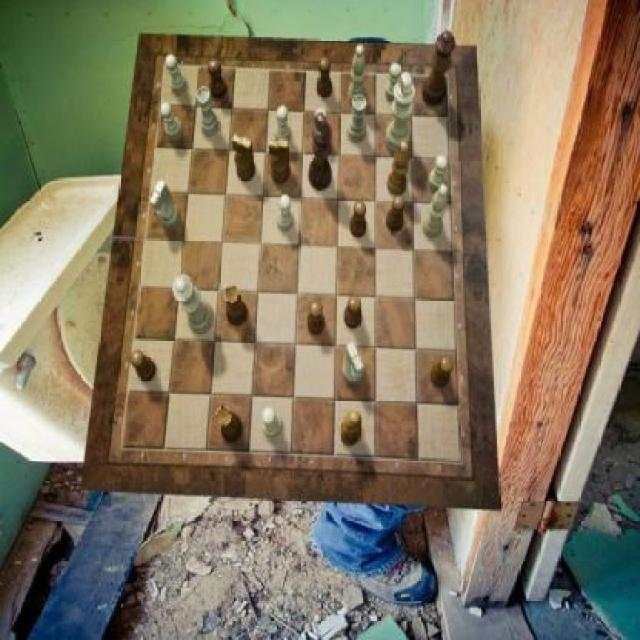bishop: (386, 142, 409, 196), (340, 411, 362, 447)
black-bishop: (309, 112, 333, 191)
black-king: (234, 134, 257, 180), (269, 138, 292, 184)
black-knight: (131, 351, 157, 383), (208, 60, 227, 100), (431, 357, 454, 389), (386, 196, 406, 232), (350, 202, 368, 239), (317, 58, 332, 98), (308, 302, 325, 336), (345, 296, 362, 330)
black-pawn: (422, 30, 454, 106)
black-queen: (224, 285, 248, 326), (217, 405, 243, 442)
black-rook: (423, 185, 449, 239), (348, 45, 365, 107)
white-bishop: (386, 72, 416, 154)
white-king: (149, 180, 179, 229), (343, 343, 366, 383)
white-knight: (165, 54, 187, 95), (160, 103, 183, 142), (386, 63, 403, 102), (429, 156, 447, 192), (262, 408, 282, 440), (276, 106, 292, 145), (277, 196, 294, 232), (314, 108, 330, 145)
white-pawn: (173, 274, 214, 334)
white-queen: (197, 86, 220, 137), (348, 95, 368, 143)
